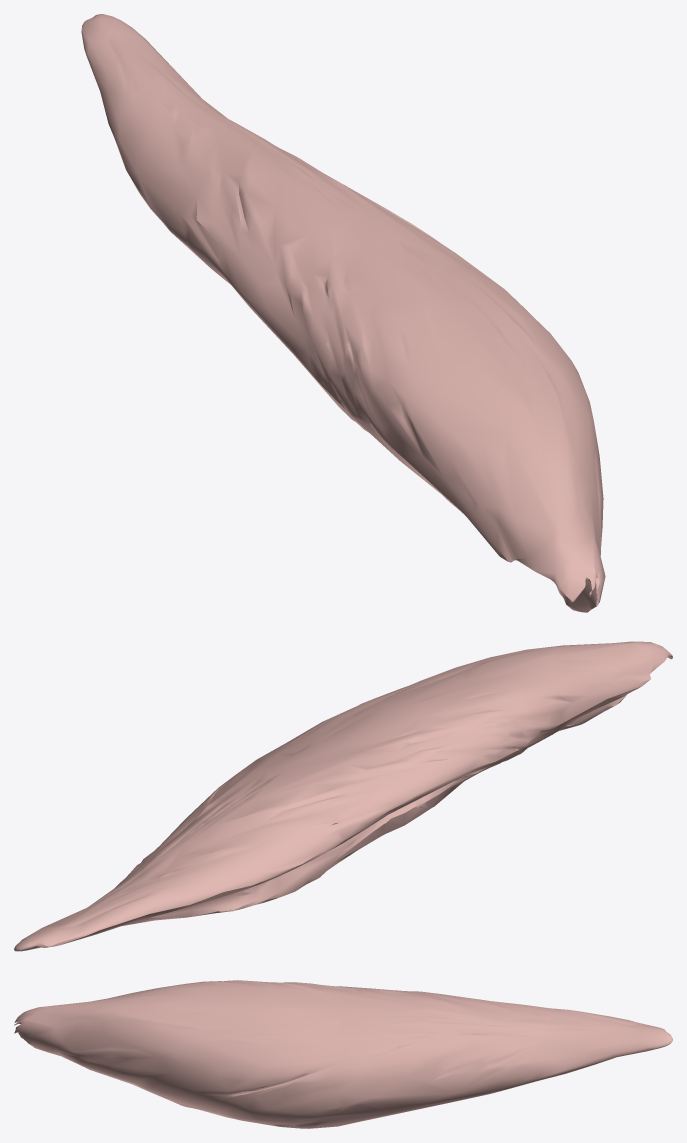
File: soleus.glb
3 renders of one model, top to bottom at view 1: azimuth 30°, elevation 25°; view 2: azimuth 150°, elevation 25°; view 3: azimuth 270°, elevation 25°, orthographic. The views are drawn at different scales.
Parts seen in each view (by area): view 1: soleus; view 2: soleus; view 3: soleus.
Boxes of the visible parts, x1,y1,x2,y2 form: soleus: [81, 14, 605, 612]; soleus: [14, 641, 672, 951]; soleus: [14, 980, 672, 1128].
Size of the model in its own units: 80.18 by 58.92 by 326.
